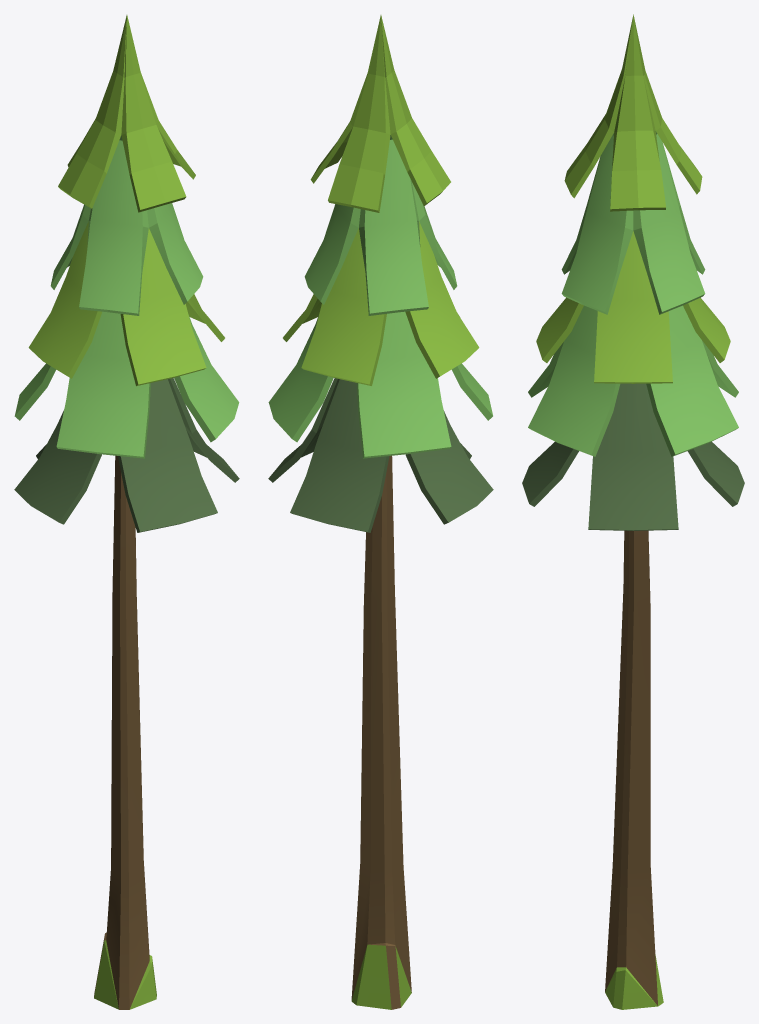
Rendered from model_polytope_fern02_large_02.fbx.
3 views of the same model, side by side, from view 1: azimuth 30°, elevation 25°; view 2: azimuth 150°, elevation 25°; view 3: azimuth 270°, elevation 25° (orthographic).
Visible parts, largest first — view 1: model_polytope_fern02_large_02; view 2: model_polytope_fern02_large_02; view 3: model_polytope_fern02_large_02.
Part boxes in pixels (left/top/right/bottom): model_polytope_fern02_large_02: left=14, top=15, right=239, bottom=1009; model_polytope_fern02_large_02: left=268, top=15, right=493, bottom=1009; model_polytope_fern02_large_02: left=522, top=14, right=744, bottom=1009.
Bounding box in the file's own units: 202 × 987 × 202.
1 material, 1 textured.
